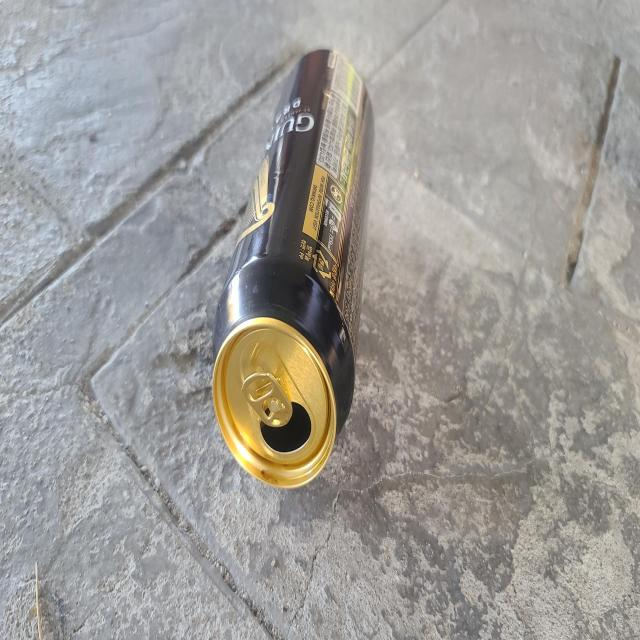can: (212, 48, 374, 487)
